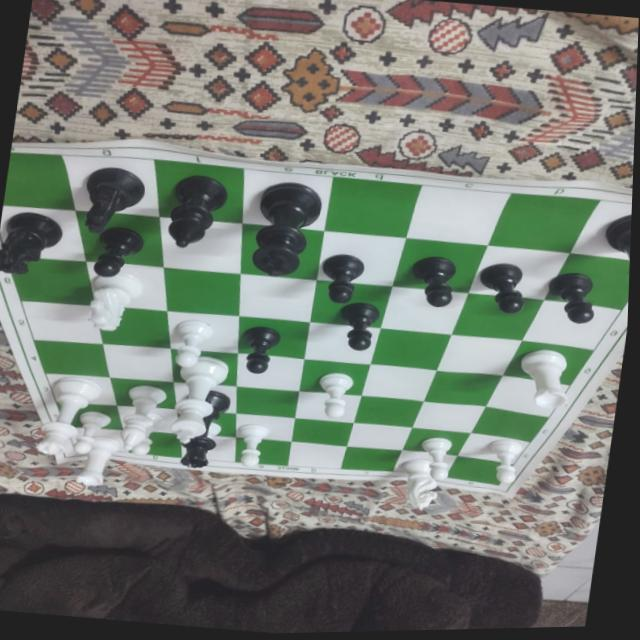board: (4, 149, 632, 493)
square: (488, 192, 601, 253), (406, 185, 512, 245), (60, 154, 160, 217), (324, 177, 422, 237), (153, 159, 244, 223), (242, 168, 333, 231), (469, 245, 570, 300), (392, 237, 488, 293), (74, 210, 163, 267), (523, 300, 622, 350), (316, 231, 406, 286), (0, 205, 86, 261), (545, 253, 630, 309), (159, 216, 242, 273), (241, 223, 324, 280), (452, 292, 544, 340), (380, 285, 468, 335), (7, 257, 96, 305), (3, 152, 75, 210), (502, 340, 594, 385), (86, 261, 167, 311), (310, 280, 391, 328), (239, 273, 317, 322), (164, 267, 241, 316), (570, 200, 632, 260), (20, 301, 103, 344), (486, 375, 570, 417), (437, 334, 522, 375), (370, 328, 451, 370), (303, 322, 381, 364), (95, 305, 170, 348), (237, 316, 310, 358), (167, 312, 238, 353), (361, 363, 437, 401), (471, 406, 549, 443), (423, 370, 503, 406), (33, 340, 109, 377), (102, 343, 173, 382), (236, 352, 305, 391), (299, 358, 370, 395), (170, 348, 238, 386), (412, 401, 487, 433), (44, 373, 116, 405), (354, 395, 424, 427), (458, 433, 530, 464), (110, 377, 177, 409), (295, 391, 362, 423), (445, 455, 513, 485), (236, 386, 299, 418), (402, 427, 471, 456), (173, 382, 236, 413), (56, 402, 123, 430), (347, 422, 413, 450), (291, 418, 354, 446), (117, 405, 180, 433), (393, 450, 457, 476), (236, 413, 295, 441), (177, 409, 236, 437), (235, 437, 291, 466), (179, 433, 236, 461), (122, 430, 181, 457), (287, 441, 346, 468), (67, 427, 129, 452), (341, 446, 402, 471)
